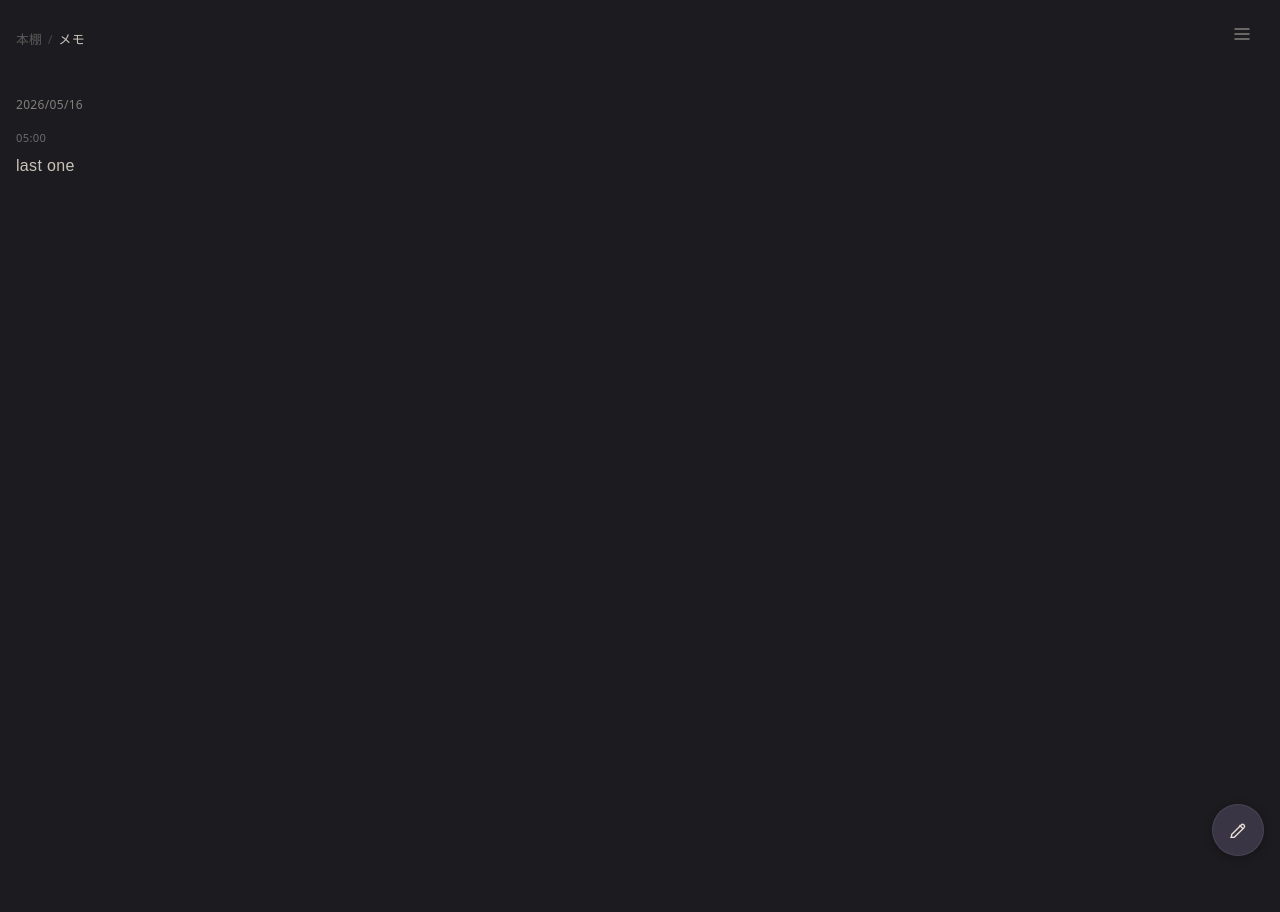
it: LogListPage MemoListItem (M3-T5) › 最後の1件を削除→空状態へ（クラッシュなし, E11）
Press the mouse on the text "last one" at (45, 166), box [16,157,75,174]
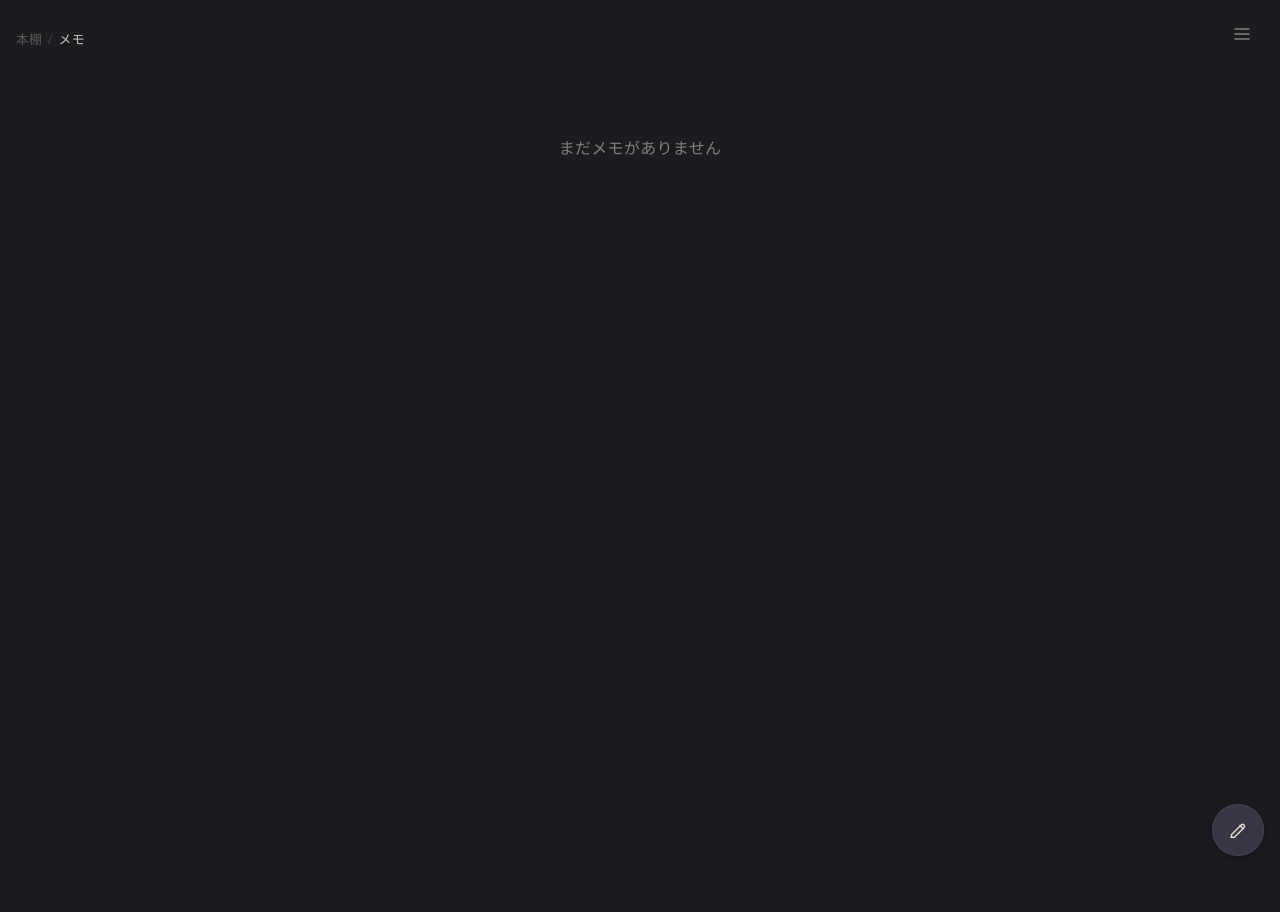
Result: the text "まだメモがありません" is shown at [559,137,721,159]
